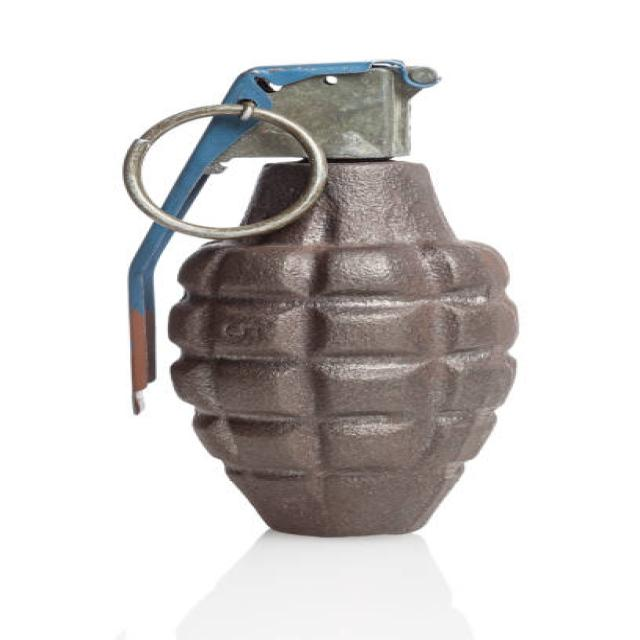grenade: (104, 45, 530, 542)
